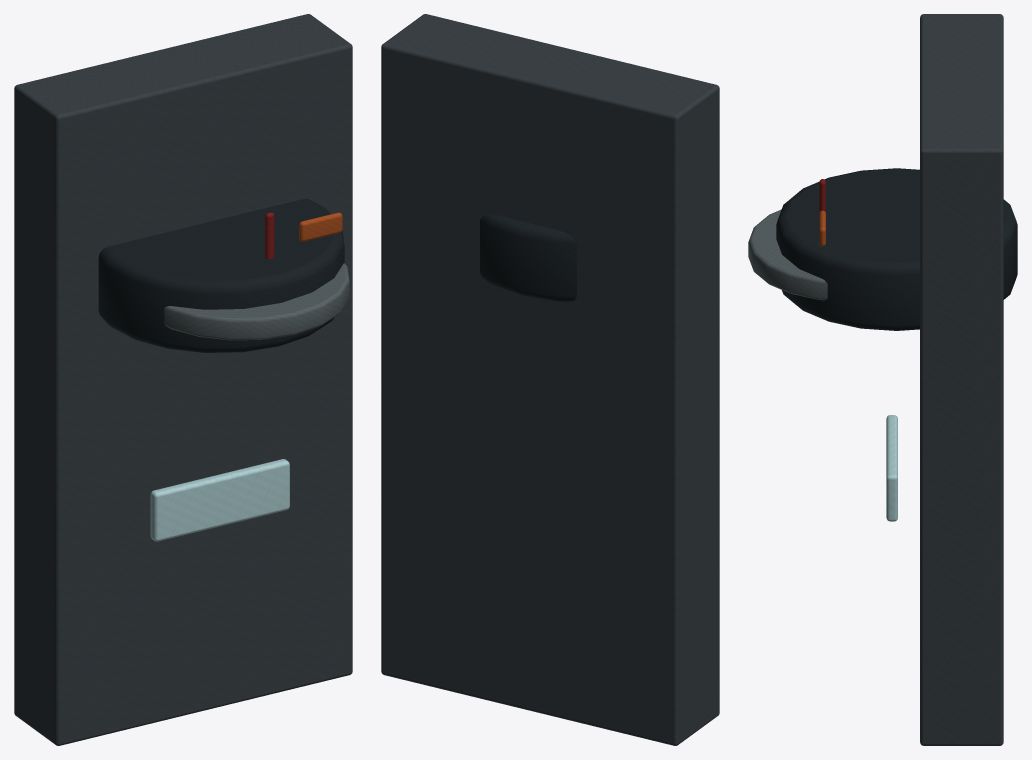
The model's file is ContainmentPressureGauge.fbx.
3 renders of one model, left to right at view 1: azimuth 30°, elevation 25°; view 2: azimuth 150°, elevation 25°; view 3: azimuth 270°, elevation 25°, orthographic. The views are drawn at different scales.
Parts seen in each view (by area): view 1: ContainmentPressureGauge_Mesh; view 2: ContainmentPressureGauge_Mesh; view 3: ContainmentPressureGauge_Mesh.
Part boxes in pixels (box(x1,y1,x2,y2)): ContainmentPressureGauge_Mesh: box(14, 14, 352, 745); ContainmentPressureGauge_Mesh: box(381, 14, 719, 745); ContainmentPressureGauge_Mesh: box(748, 14, 1017, 745).
Size of the model in its own units: 70 by 142 by 58.
Materials: 7 (7 with a texture image).
